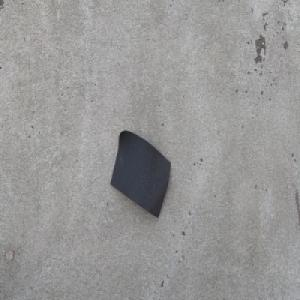PaintChip: (110, 130, 171, 219)
